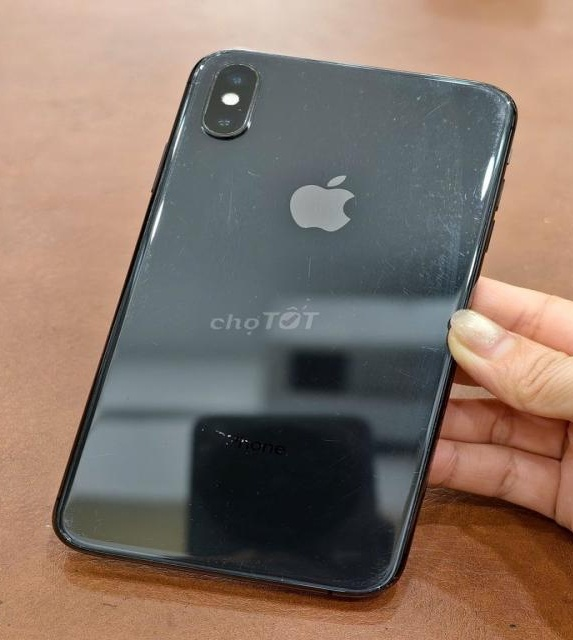scratch: (390, 82, 485, 288), (333, 470, 419, 557), (302, 112, 406, 177), (171, 475, 275, 533), (183, 537, 296, 590), (328, 256, 397, 333), (192, 409, 287, 463), (374, 339, 446, 410), (43, 500, 122, 556), (466, 86, 526, 155), (201, 183, 259, 244), (339, 553, 404, 603), (132, 245, 169, 329), (384, 275, 458, 317), (371, 56, 443, 99), (361, 185, 397, 248), (289, 255, 329, 311), (279, 50, 325, 98), (291, 367, 343, 409), (194, 244, 248, 279), (349, 464, 421, 488), (164, 139, 209, 177), (159, 208, 197, 248), (180, 45, 229, 76), (137, 524, 178, 559), (398, 415, 438, 444), (345, 78, 373, 118), (311, 423, 346, 453), (136, 329, 169, 355), (241, 161, 268, 187), (174, 125, 199, 151), (186, 95, 203, 132), (325, 402, 347, 426), (246, 284, 268, 307), (351, 350, 370, 376), (268, 142, 288, 166), (298, 98, 327, 114), (323, 340, 345, 359), (183, 75, 207, 92), (242, 56, 263, 73), (254, 88, 272, 104), (124, 391, 141, 407), (163, 191, 174, 202)
